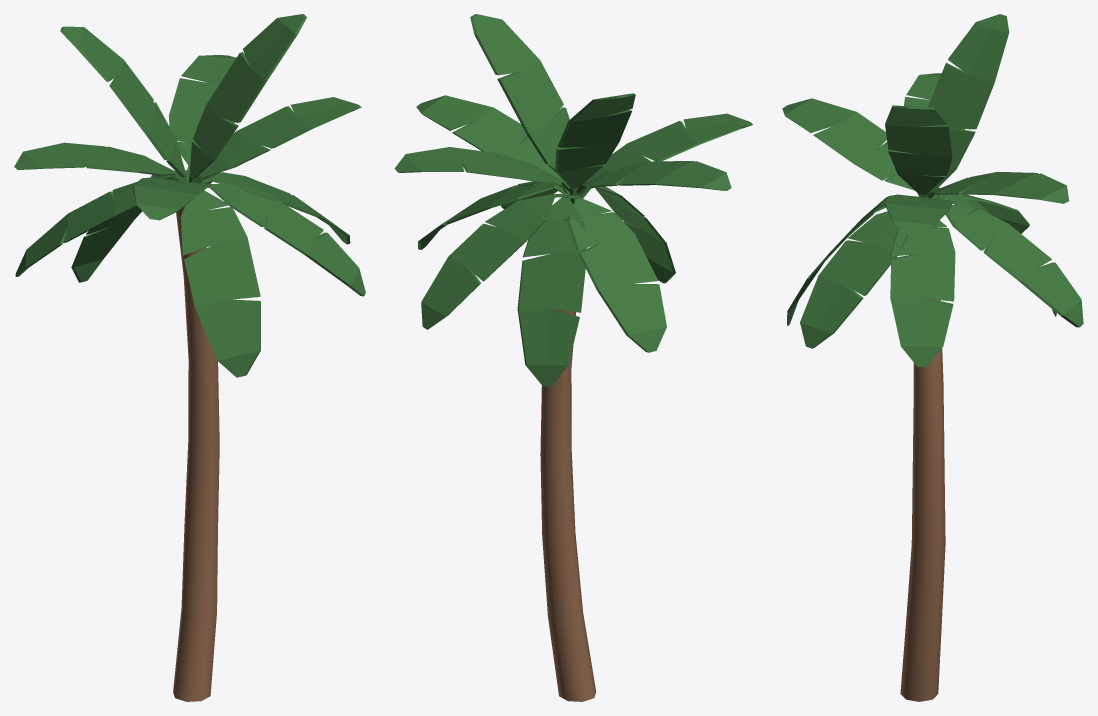
File: coqueiro3.gltf
3 renders of one model, left to right at view 1: azimuth 30°, elevation 25°; view 2: azimuth 150°, elevation 25°; view 3: azimuth 270°, elevation 25°, orthographic. The views are drawn at different scales.
Parts seen in each view (by area): view 1: Coqueiro 3; view 2: Coqueiro 3; view 3: Coqueiro 3.
Boxes of the visible parts, x1,y1,x2,y2 form: Coqueiro 3: [14, 14, 365, 701]; Coqueiro 3: [394, 14, 753, 701]; Coqueiro 3: [782, 14, 1083, 701].
Size of the model in its own units: 19.56 by 37.19 by 15.93.
